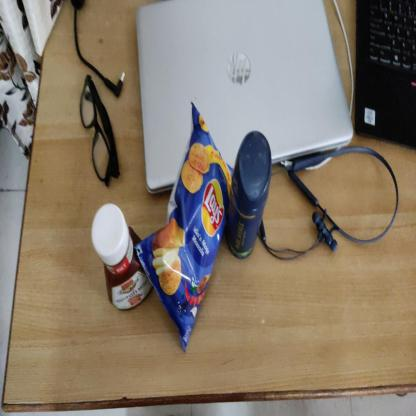indian_magic_masala: (137, 101, 233, 347)
